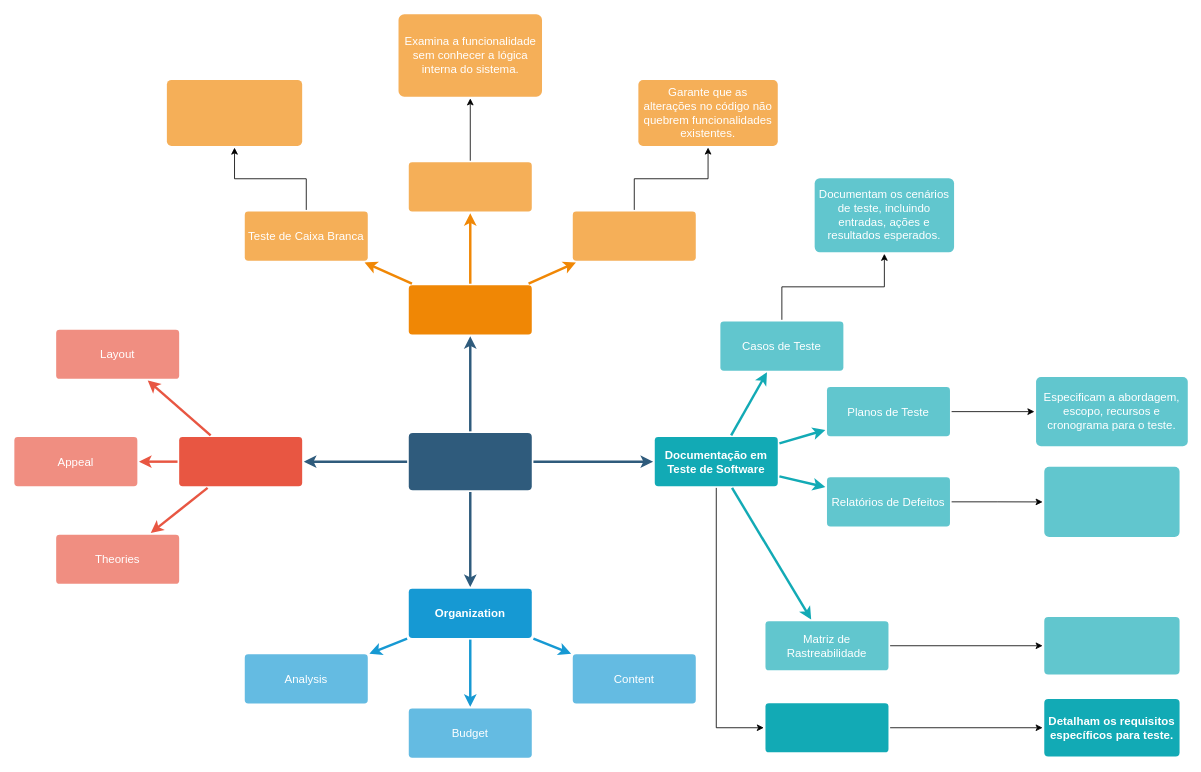
Some shapes in this 1201 by 772 pixel diagram are drawn without their labels. The shapes that lost their labels are listed below. From the top down, each one's centre as x and y in pixels, then its label:
At pixel 234 113: "Avalia a lógica interna do código, testando a estrutura e o fluxo interno.".
At pixel 469 186: "Teste de Caixa Preta".
At pixel 633 235: "Teste de Regressão".
At pixel 469 309: "Conceitos Fundamentais".
At pixel 240 461: "Embassy".
At pixel 469 461: "Validação e Verificação".
At pixel 1111 501: "Documentam e monitoram os defeitos encontrados durante o teste.".
At pixel 1111 645: "Relaciona requisitos aos casos de teste para garantir cobertura.".
At pixel 826 727: "Especificações de Requisitos de Teste".
